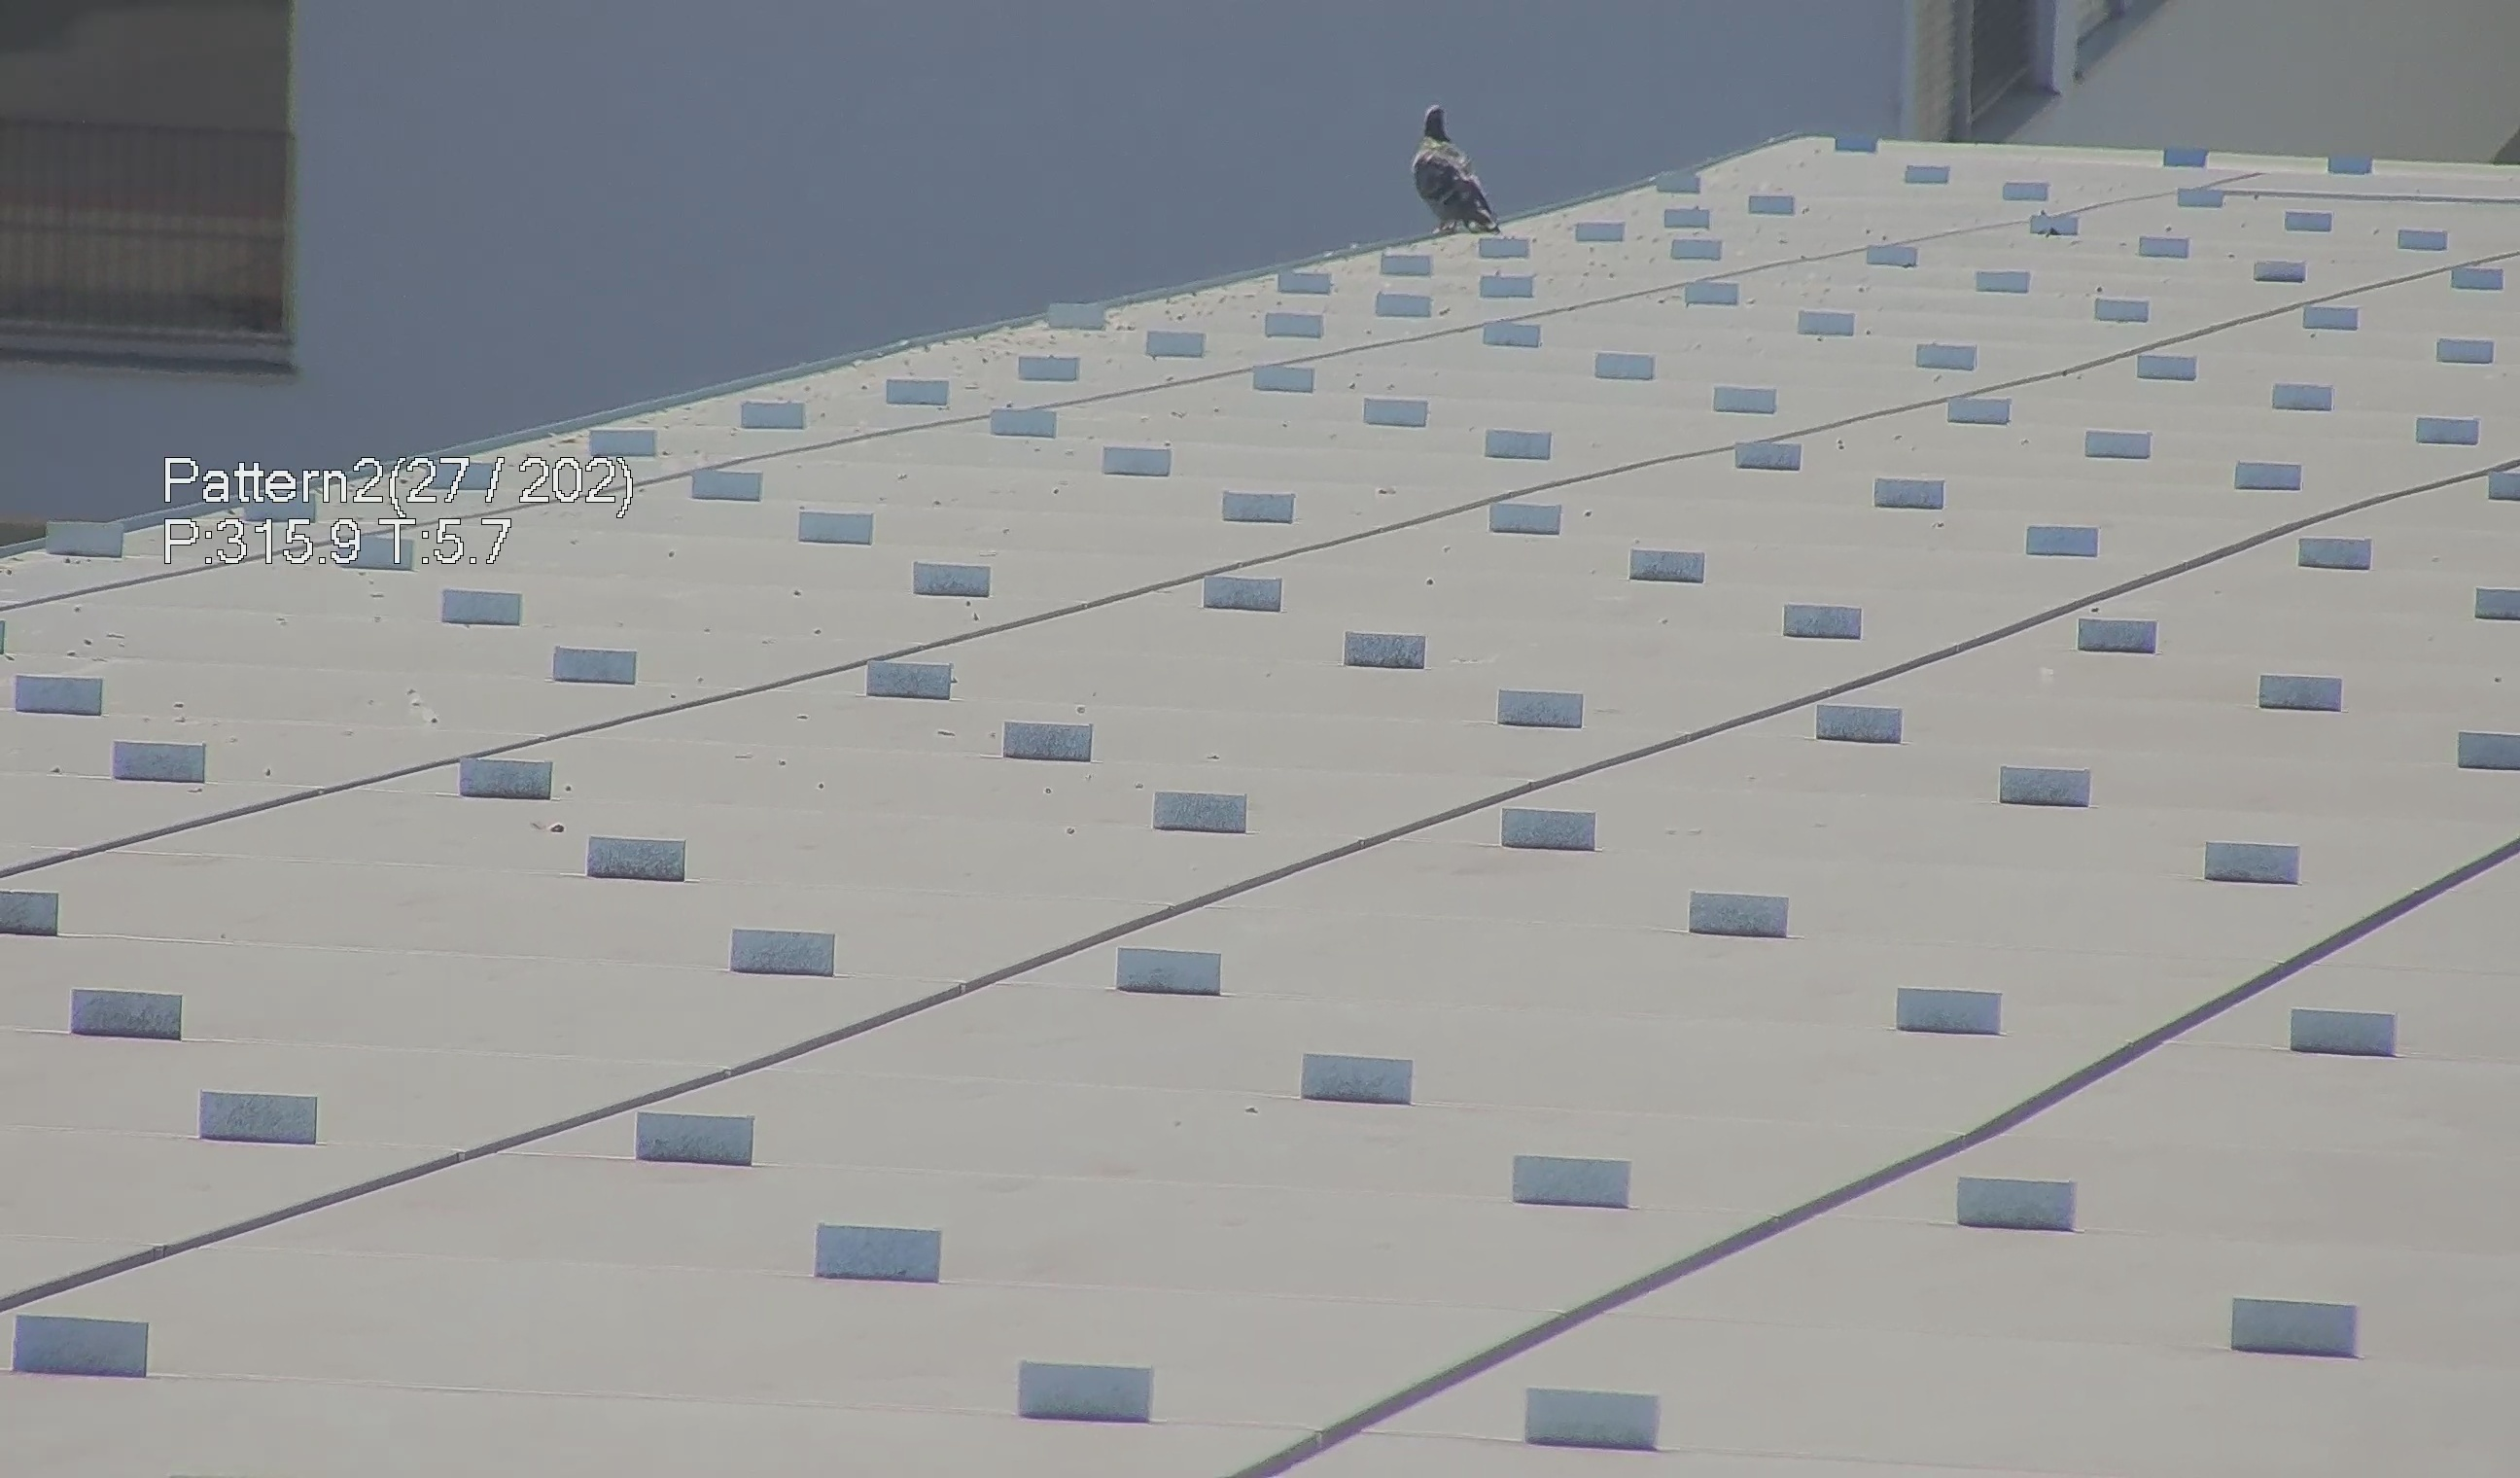Pigeon: (1400, 91, 1512, 238)
